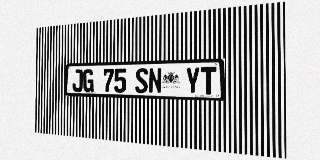5: (114, 68, 126, 93)
7: (102, 69, 114, 93)
G: (83, 69, 94, 92)
J: (72, 69, 83, 92)
N: (148, 68, 162, 94)
S: (135, 68, 148, 93)
T: (201, 67, 216, 95)
Y: (185, 67, 200, 94)
